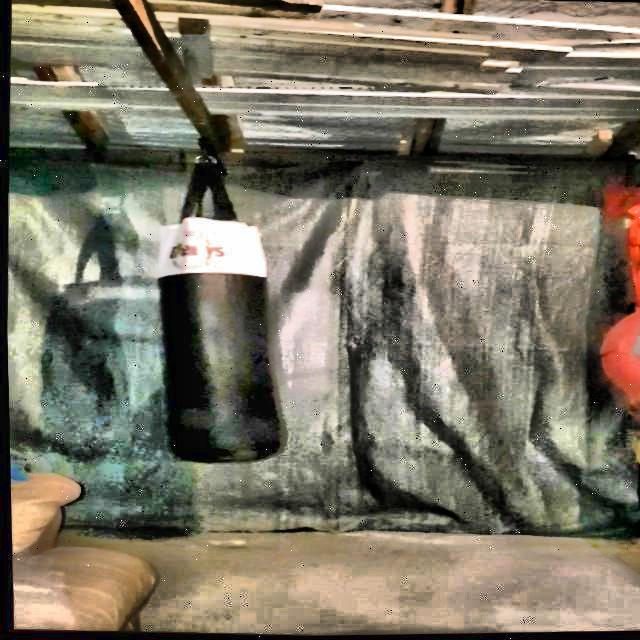boxing-bag: (141, 128, 285, 468)
